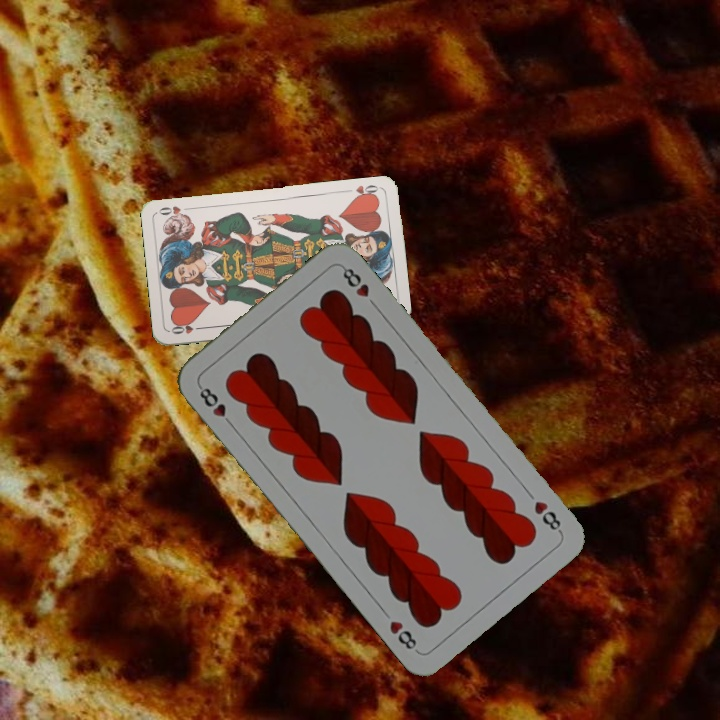H8: (194, 381, 237, 430), (530, 496, 565, 536)
HO: (167, 319, 207, 337), (350, 181, 383, 201)
